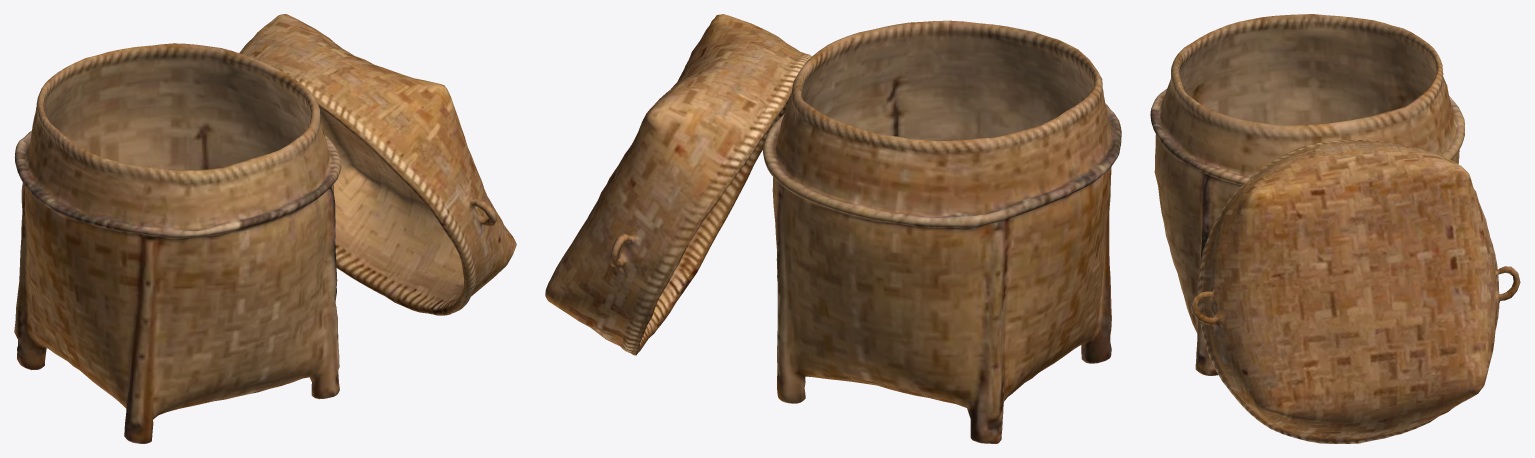
File: wicker_basket_02.glb
3 views of the same model, side by side, from view 1: azimuth 30°, elevation 25°; view 2: azimuth 150°, elevation 25°; view 3: azimuth 270°, elevation 25° (orthographic). The views are drawn at different scales.
Visible parts, largest first — view 1: wicker_basket_02_base; view 2: wicker_basket_02_base; view 3: wicker_basket_02_base.
Boxes of the visible parts, x1,y1,x2,y2 form: wicker_basket_02_base: [14, 14, 516, 443]; wicker_basket_02_base: [545, 14, 1121, 443]; wicker_basket_02_base: [1150, 14, 1520, 443].
Size of the model in its own units: 0.3469 by 0.2005 by 0.2545.
Materials: 1 (1 with a texture image).
